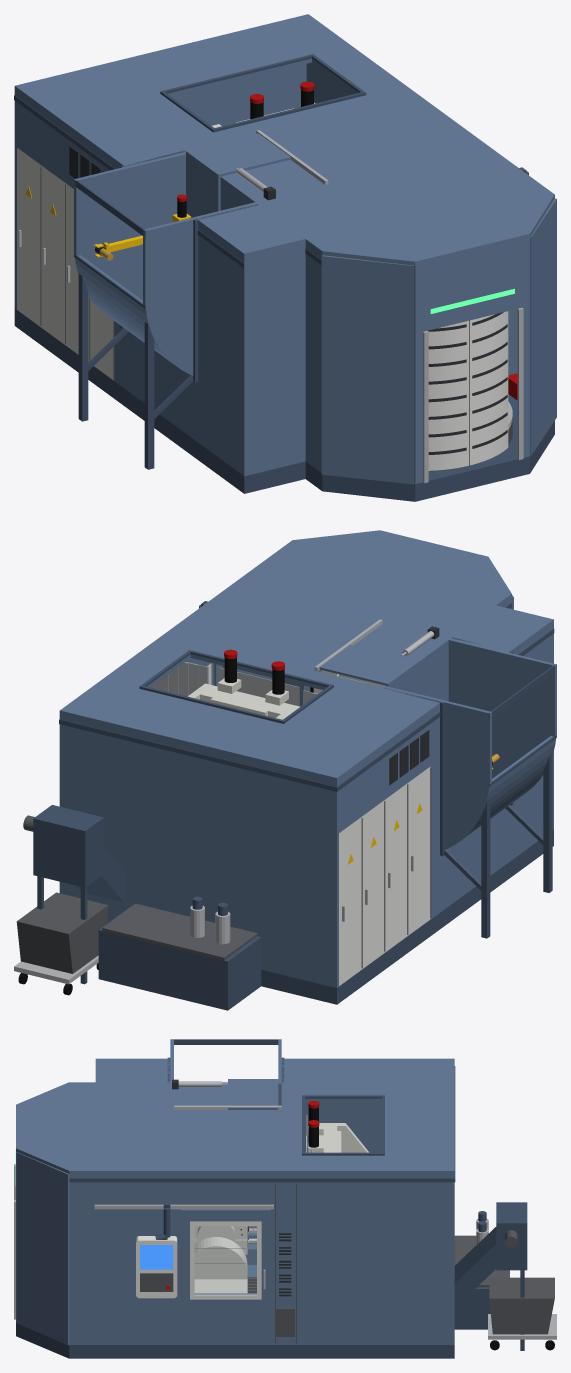
Rendered from clock1000evo_fms_blue.glb.
3 renders of one model, top to bottom at view 1: azimuth 30°, elevation 25°; view 2: azimuth 150°, elevation 25°; view 3: azimuth 270°, elevation 25°, orthographic. The views are drawn at different scales.
Parts seen in each view (by area): view 1: enclosure__mcm_blue, apc_housing__mcm_blue, tc_box__mcm_blue, electrical_cabinet__evo_white, enclosure__mcm_blue_dk, apc_housing__mcm_blue_dk, apc_door_left__evo_white, apc_door_right__evo_white, tc_box__mcm_blue_dk, tc_door__mcm_blue, apc_housing__steel, apc_door_left__anthracite (+4 smaller); view 2: enclosure__mcm_blue, tc_box__mcm_blue, chip_coolant__mcm_blue_dk, electrical_cabinet__evo_white, enclosure__mcm_blue_dk, apc_housing__mcm_blue, chip_cart__steel_dark, tc_box__mcm_blue_dk, chip_coolant__anthracite_lt, tc_door__mcm_blue, column__struct_grey, electrical_cabinet__anthracite_lt (+6 smaller); view 3: enclosure__mcm_blue, apc_housing__mcm_blue, enclosure__mcm_blue_dk, chip_coolant__mcm_blue_dk, operator_door__glass_clear, operator_door__mcm_blue, chip_cart__steel_dark, table__struct_grey, enclosure__steel, operator_door__evo_white, tc_door__mcm_blue, column__struct_grey (+11 smaller).
Boxes of the visible parts, bbox=[...] form: enclosure__mcm_blue: bbox=[14, 14, 537, 476]; apc_housing__mcm_blue: bbox=[305, 182, 556, 484]; tc_box__mcm_blue: bbox=[74, 152, 257, 375]; electrical_cabinet__evo_white: bbox=[17, 148, 113, 380]; enclosure__mcm_blue_dk: bbox=[14, 54, 366, 493]; apc_housing__mcm_blue_dk: bbox=[305, 248, 554, 501]; apc_door_left__evo_white: bbox=[428, 320, 468, 470]; apc_door_right__evo_white: bbox=[469, 311, 508, 465]; tc_box__mcm_blue_dk: bbox=[74, 179, 193, 469]; tc_door__mcm_blue: bbox=[186, 133, 290, 217]; apc_housing__steel: bbox=[423, 307, 523, 483]; apc_door_left__anthracite: bbox=[428, 324, 466, 454]; enclosure__mcm_blue: bbox=[59, 552, 553, 987]; tc_box__mcm_blue: bbox=[384, 638, 556, 849]; chip_coolant__mcm_blue_dk: bbox=[33, 805, 261, 1010]; electrical_cabinet__evo_white: bbox=[339, 766, 430, 985]; enclosure__mcm_blue_dk: bbox=[59, 628, 554, 1004]; apc_housing__mcm_blue: bbox=[277, 530, 513, 691]; chip_cart__steel_dark: bbox=[16, 892, 108, 973]; tc_box__mcm_blue_dk: bbox=[444, 665, 556, 938]; chip_coolant__anthracite_lt: bbox=[102, 903, 257, 960]; tc_door__mcm_blue: bbox=[319, 645, 418, 693]; column__struct_grey: bbox=[188, 678, 299, 719]; electrical_cabinet__anthracite_lt: bbox=[361, 767, 431, 968]; enclosure__mcm_blue: bbox=[95, 1058, 454, 1344]; apc_housing__mcm_blue: bbox=[16, 1082, 95, 1345]; enclosure__mcm_blue_dk: bbox=[95, 1057, 455, 1358]; chip_coolant__mcm_blue_dk: bbox=[454, 1202, 527, 1350]; operator_door__glass_clear: bbox=[195, 1227, 256, 1293]; operator_door__mcm_blue: bbox=[181, 1209, 270, 1310]; chip_cart__steel_dark: bbox=[489, 1277, 554, 1334]; table__struct_grey: bbox=[194, 1226, 247, 1293]; enclosure__steel: bbox=[94, 1081, 281, 1209]; operator_door__evo_white: bbox=[190, 1221, 261, 1299]; tc_door__mcm_blue: bbox=[228, 1079, 278, 1109]; column__struct_grey: bbox=[308, 1123, 368, 1152].
Bounding box in the file's own units: 5.04 × 3.22 × 7.86.
